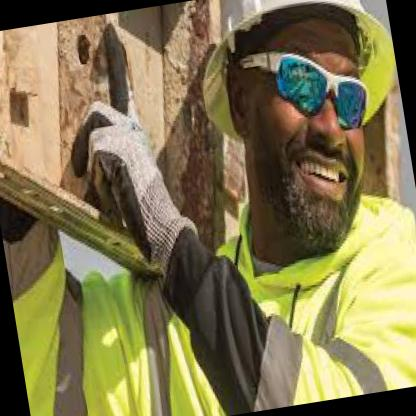Gloves: (50, 14, 207, 293)
